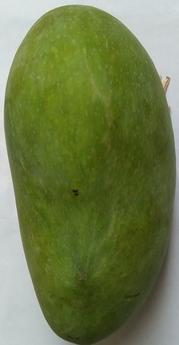Unripe: (0, 1, 179, 345)
